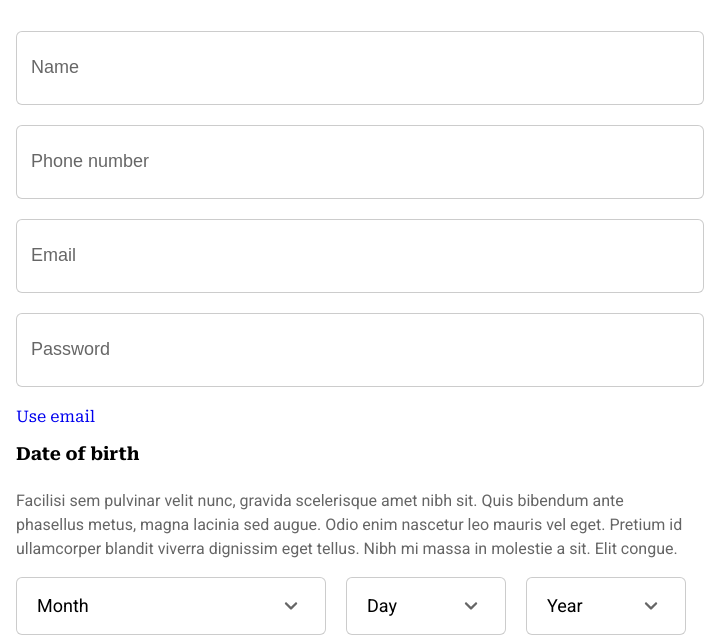
Test: registration page › should change year
The width and height of the screenshot is (721, 643).
Click the text "Year" at (606, 606), box [526,577,686,635]
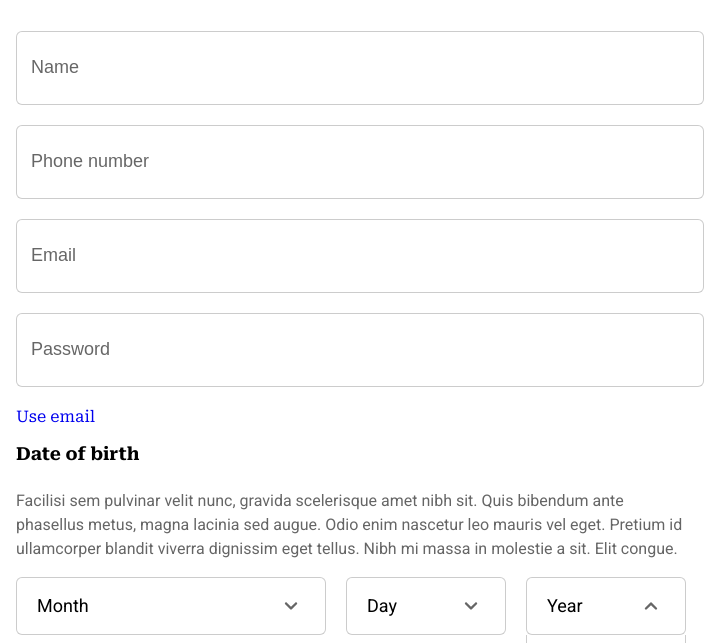
Scroll
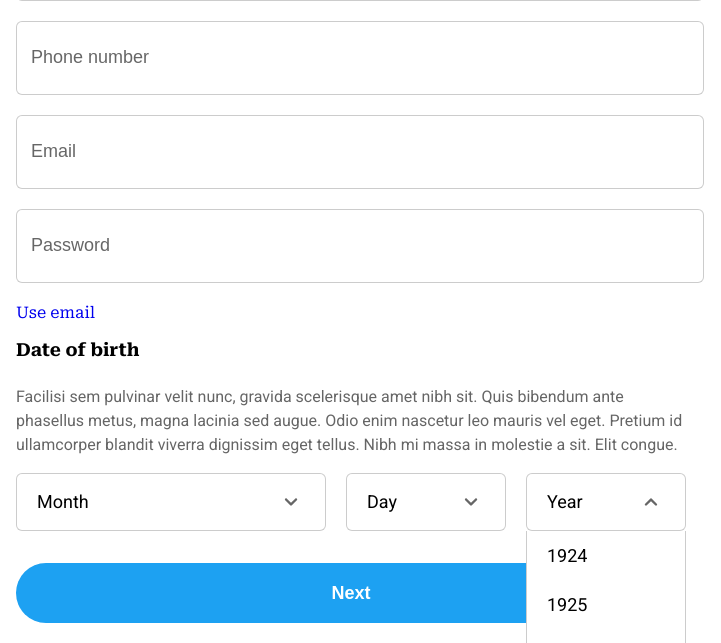
Click the list item "1924" at (568, 556), box [547,545,588,566]
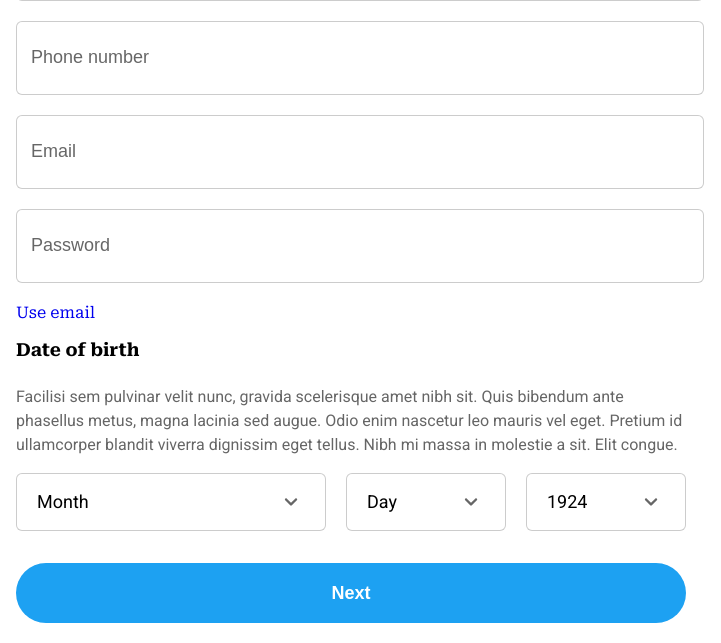
Now the text "1924" is shown, box [526,472,686,530]
